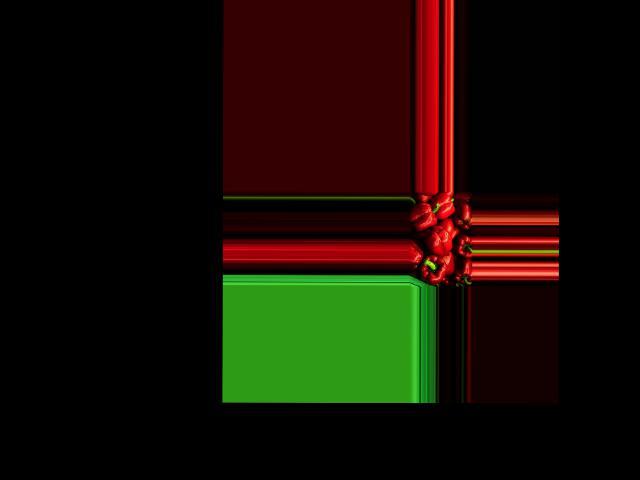bell_pepper: (453, 259, 472, 285)
